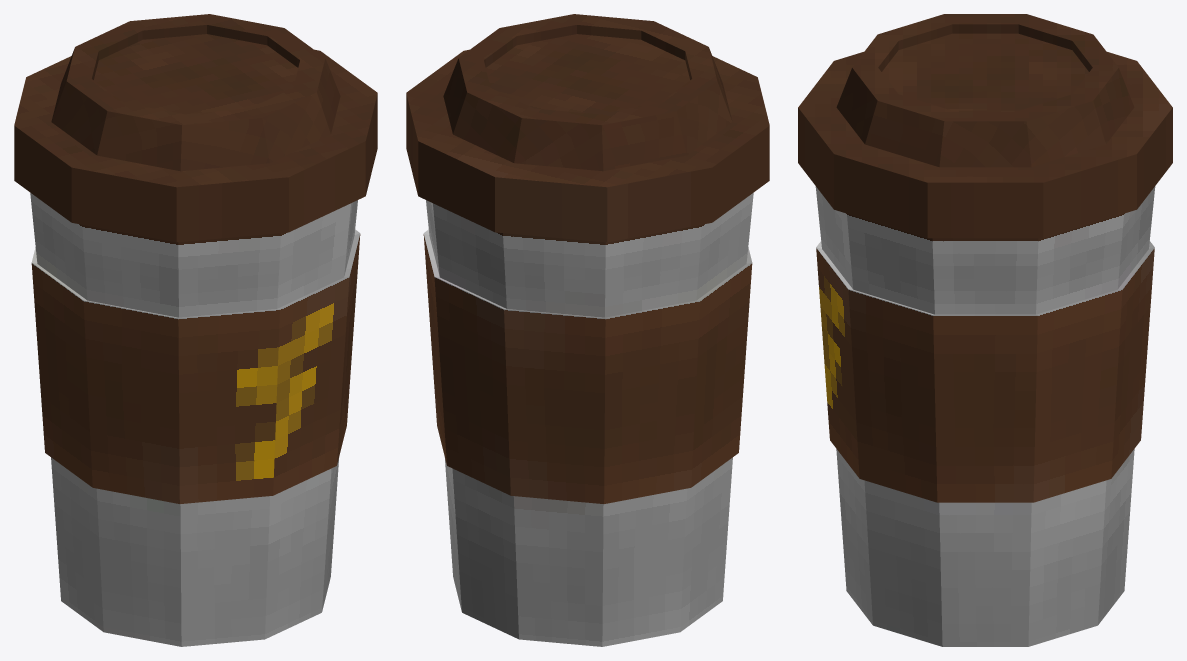
File: Coffe.fbx
3 views of the same model, side by side, from view 1: azimuth 30°, elevation 25°; view 2: azimuth 150°, elevation 25°; view 3: azimuth 270°, elevation 25° (orthographic).
Visible parts, largest first — view 1: Cylinder; view 2: Cylinder; view 3: Cylinder.
Part boxes in pixels (x1,y1,x2,y2): Cylinder: [14, 14, 377, 646]; Cylinder: [406, 14, 769, 646]; Cylinder: [798, 14, 1172, 646].
Size of the model in its own units: 76.61 by 124 by 80.55.
1 material, 1 textured.
